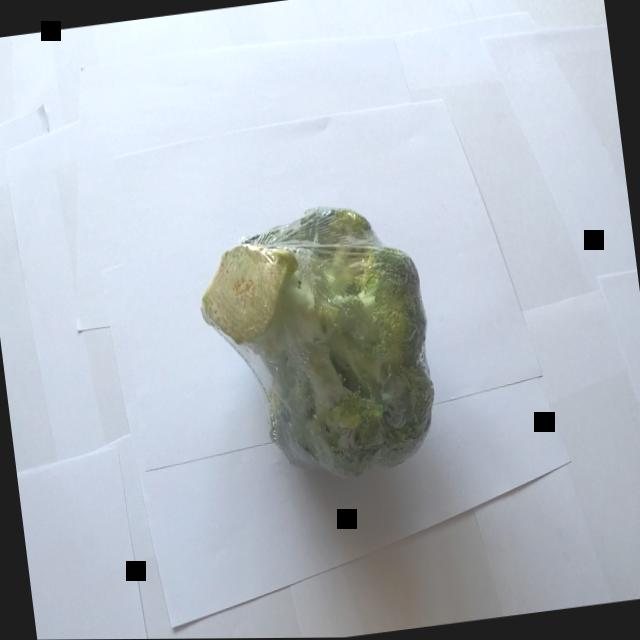Broccoli: (174, 153, 466, 514)
